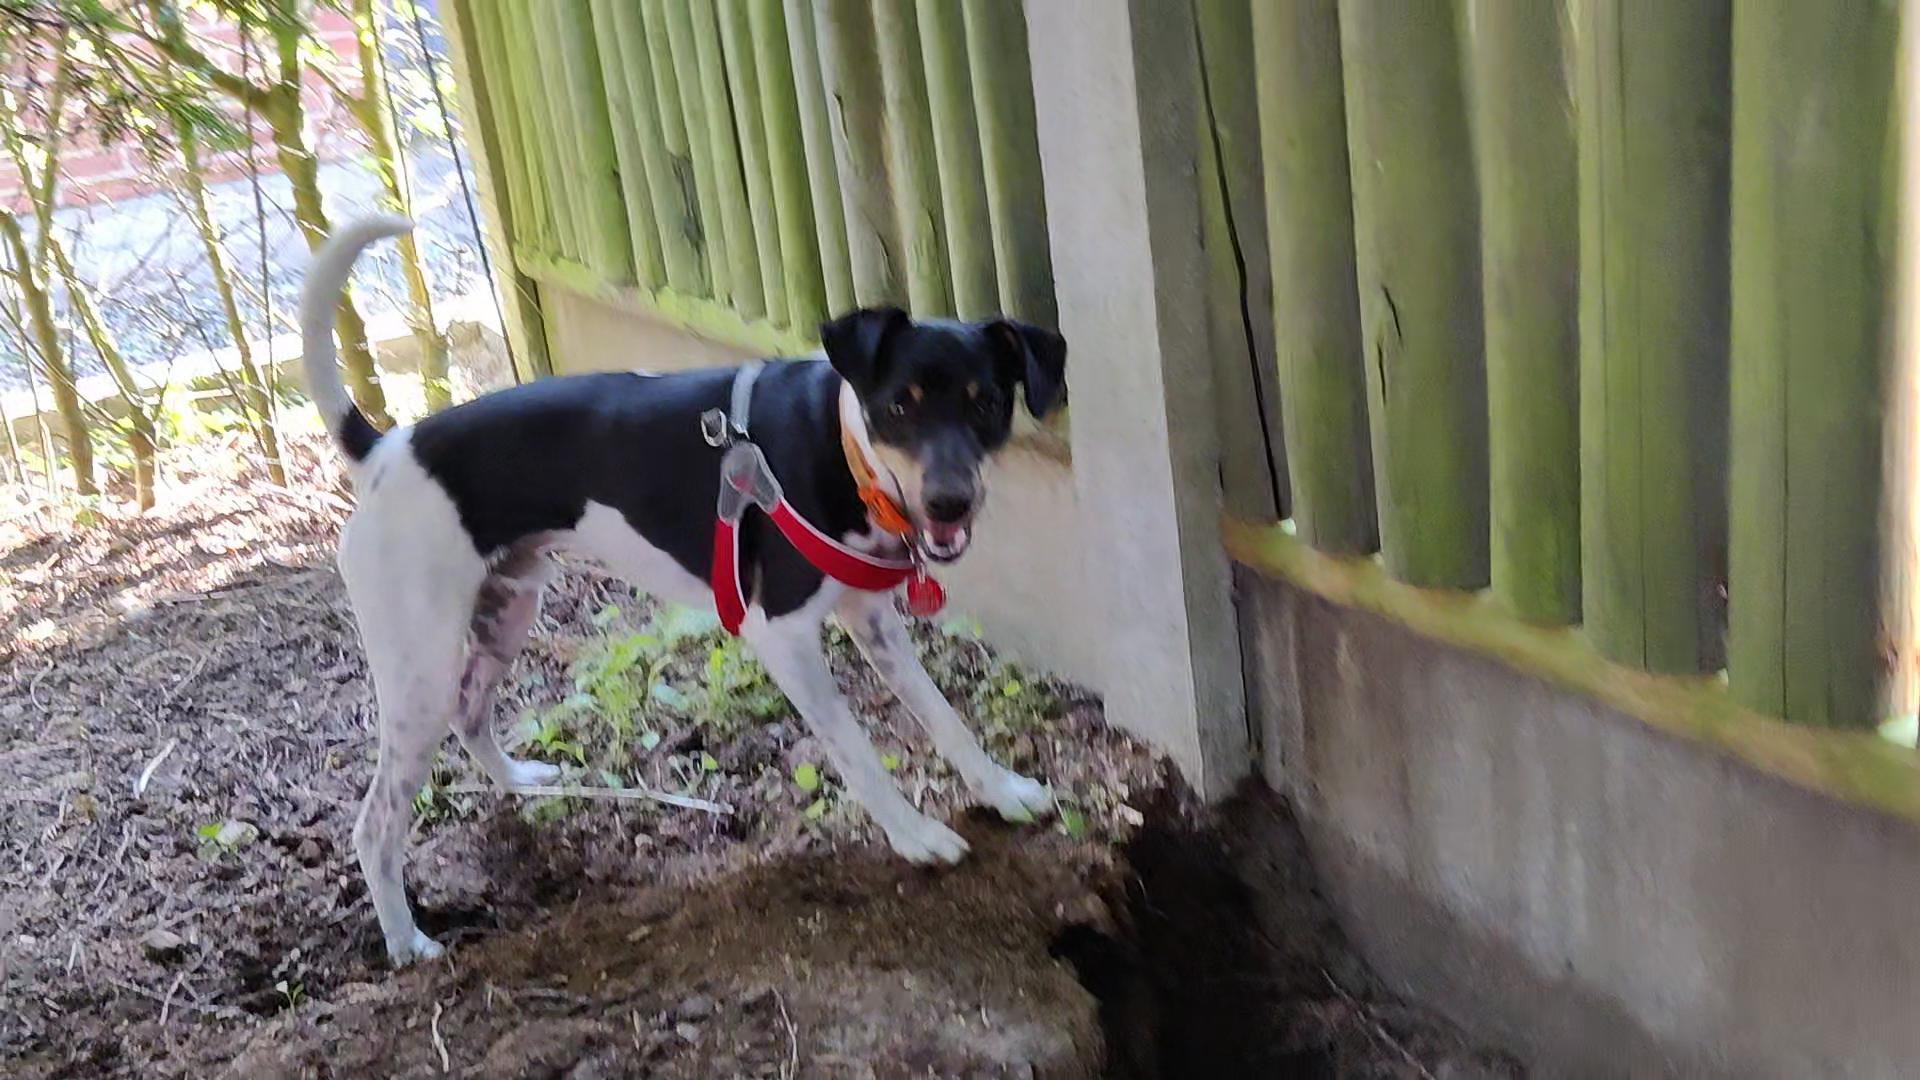Dog: (286, 196, 1084, 965)
